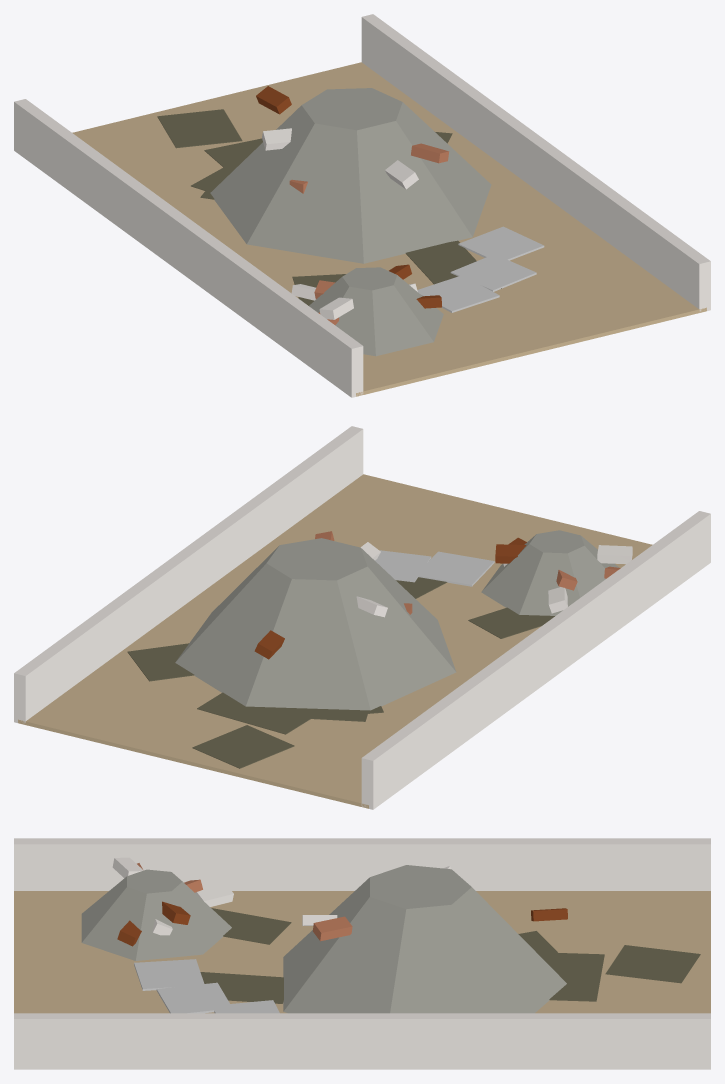
File: SM_Solar_v0_Escombro_LOD0.fbx
The picture shows the model from 3 angles, top to bottom: view 1: azimuth 30°, elevation 25°; view 2: azimuth 150°, elevation 25°; view 3: azimuth 270°, elevation 25°; orthographic projection. The views are drawn at different scales.
Parts seen in each view (by area): view 1: SM_sagunto_vivo_v5_LOD0; view 2: SM_sagunto_vivo_v5_LOD0; view 3: SM_sagunto_vivo_v5_LOD0.
Part boxes in pixels (box(x1,y1,x2,y2)): SM_sagunto_vivo_v5_LOD0: box(14, 14, 710, 397); SM_sagunto_vivo_v5_LOD0: box(14, 426, 710, 809); SM_sagunto_vivo_v5_LOD0: box(14, 838, 710, 1069).
Bounding box in the file's own units: 6.14 × 1.6 × 10.
